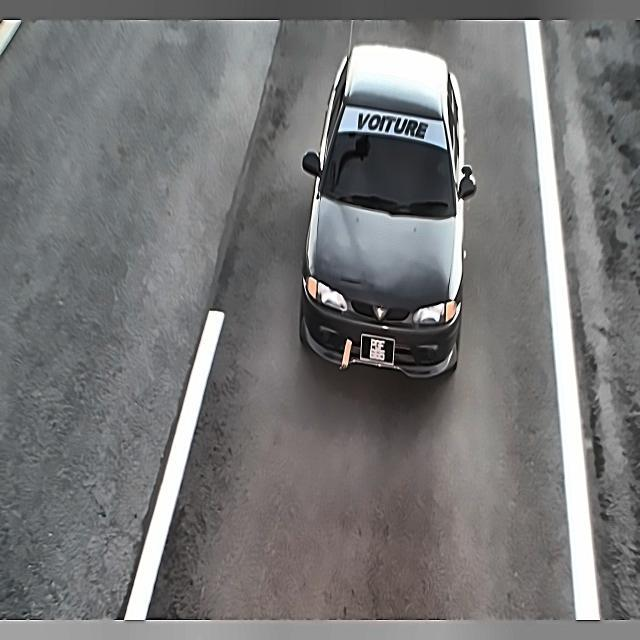car: (361, 331, 398, 368)
